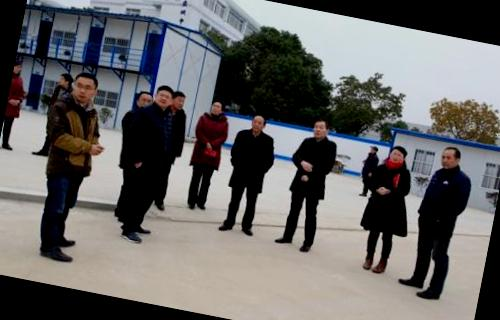no_helmet: (68, 67, 104, 106), (434, 140, 466, 173), (149, 82, 177, 112), (384, 142, 412, 168), (308, 115, 332, 141), (166, 88, 189, 115), (244, 111, 268, 136), (133, 87, 154, 113), (206, 94, 226, 120), (54, 70, 72, 90)
